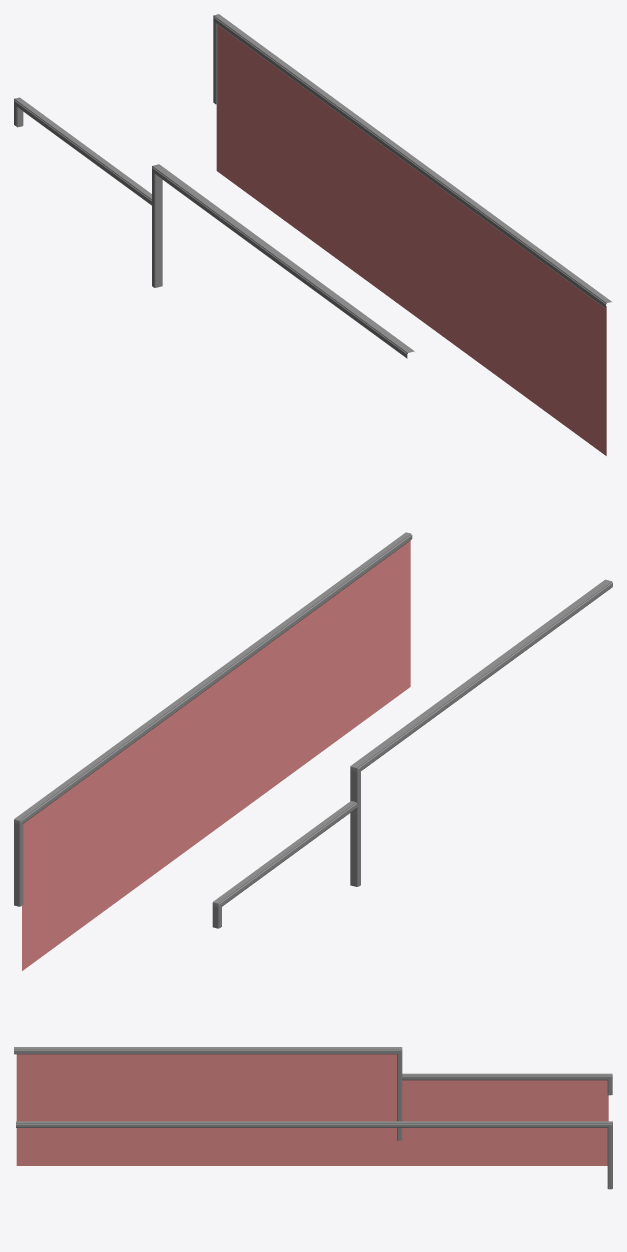
The model's file is S_Envi_Umeda_Ground_10a.gltf.
3 views of the same model, one above another, from view 1: azimuth 30°, elevation 25°; view 2: azimuth 150°, elevation 25°; view 3: azimuth 270°, elevation 25° (orthographic). The views are drawn at different scales.
Visible parts, largest first — view 1: S_Envi_Umeda_Ground_10a; view 2: S_Envi_Umeda_Ground_10a; view 3: S_Envi_Umeda_Ground_10a.
Part boxes in pixels (x1,y1,x2,y2): S_Envi_Umeda_Ground_10a: (14,14,611,455); S_Envi_Umeda_Ground_10a: (14,532,612,970); S_Envi_Umeda_Ground_10a: (14,1047,612,1189).
Size of the model in its own units: 10.35 by 7.34 by 34.16.
